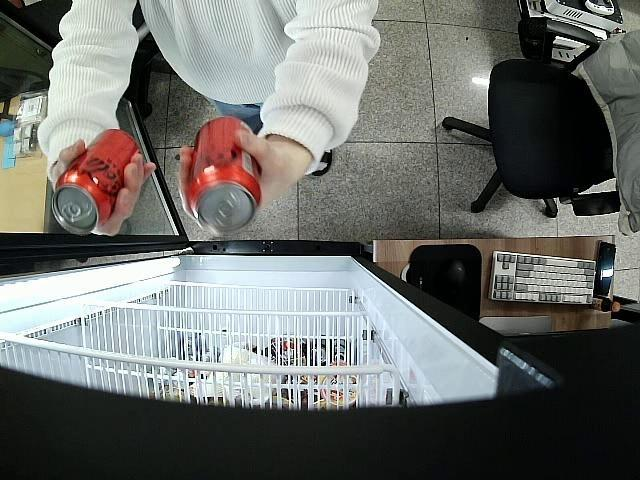11_cocaColaZero: (52, 128, 142, 237), (185, 116, 262, 233)
